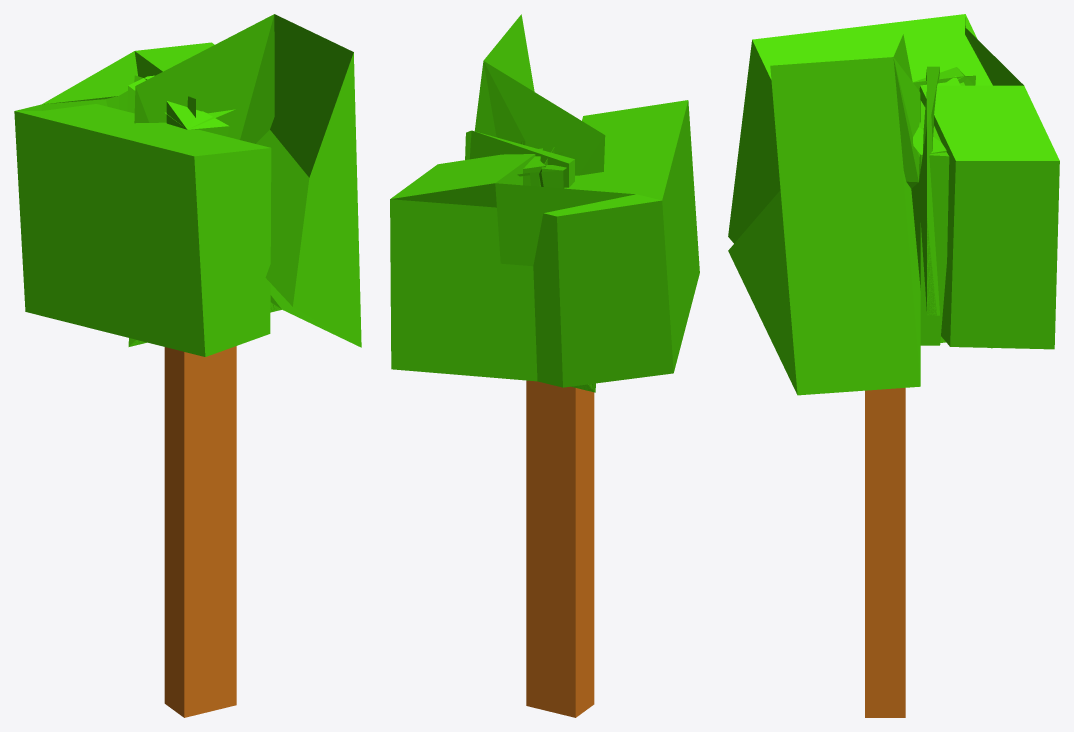
Rendered from tree.glb.
The picture shows the model from 3 angles, left to right: view 1: azimuth 30°, elevation 25°; view 2: azimuth 150°, elevation 25°; view 3: azimuth 270°, elevation 25°; orthographic projection. The views are drawn at different scales.
Visible parts, largest first — view 1: Cube.001, Cube; view 2: Cube.001, Cube; view 3: Cube.001, Cube.
Part boxes in pixels (left/top/right/bottom): Cube.001: left=14, top=14, right=361, bottom=356; Cube: left=164, top=346, right=236, bottom=717; Cube.001: left=390, top=14, right=699, bottom=392; Cube: left=526, top=380, right=594, bottom=717; Cube.001: left=728, top=14, right=1059, bottom=395; Cube: left=865, top=388, right=905, bottom=717.
Bounding box in the file's own units: 12.99 × 31.22 × 13.65.
